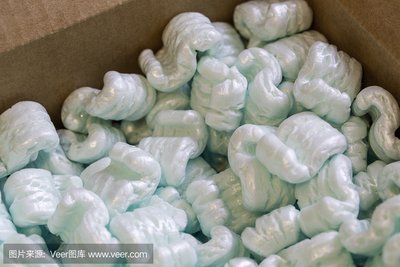5/可回收垃圾/泡沫: (1, 1, 400, 267)
